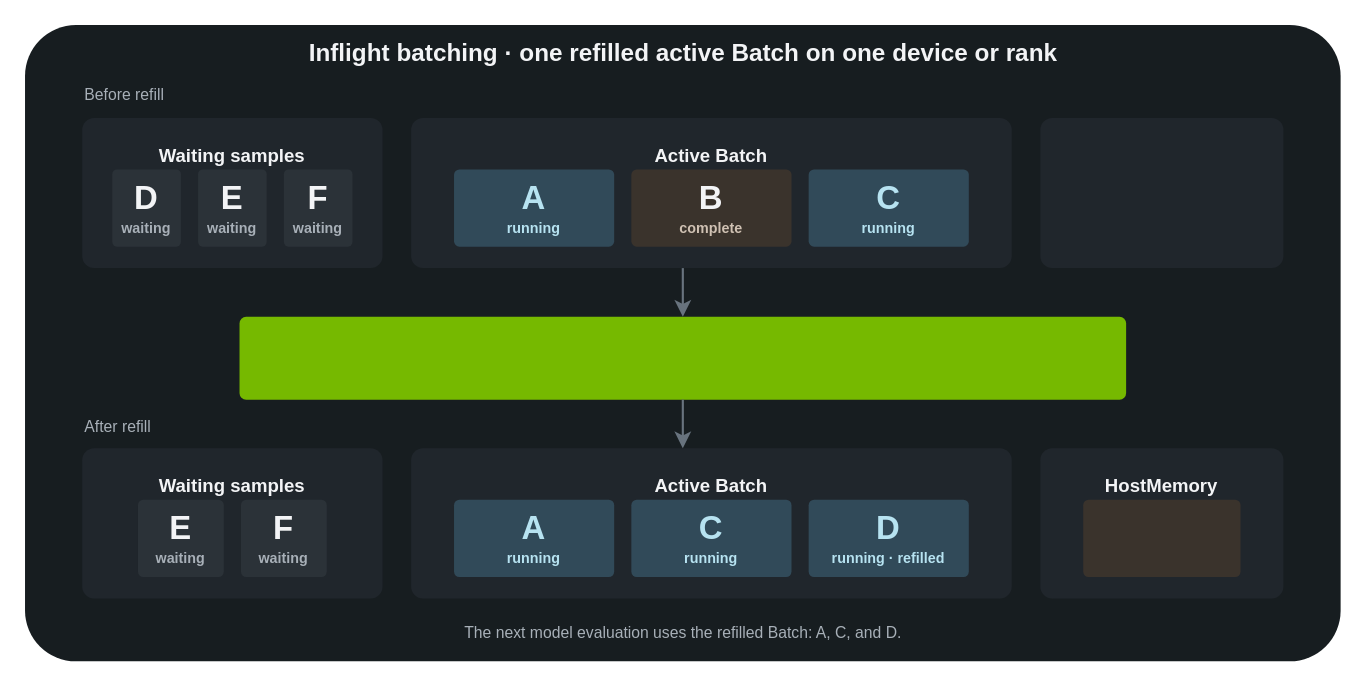
Image size: 1364x685. Some labels were removed from this diagram. The shapes that lost their labels are listed below. From the top down, each one's centre as x and y in pixels, then its label:
(1161,192): HostMemory empty
(682,357): Refill check B → HostMemory D → Active Batch
(1161,537): B completed
